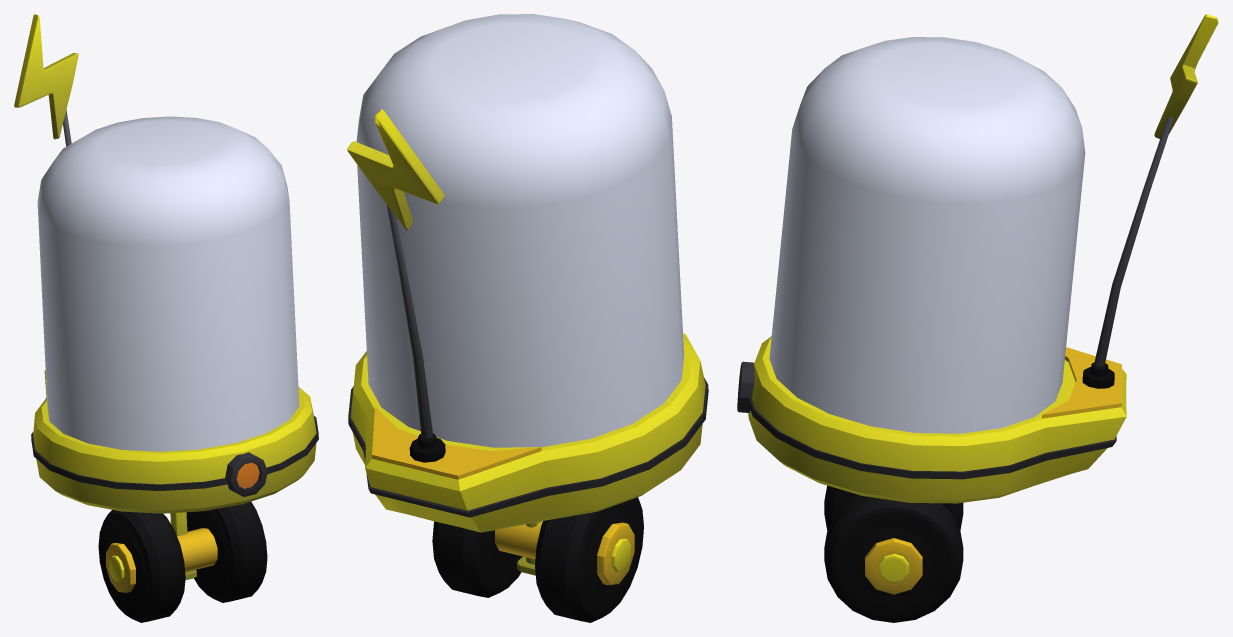
The model's file is Volto.fbx.
3 renders of one model, left to right at view 1: azimuth 30°, elevation 25°; view 2: azimuth 150°, elevation 25°; view 3: azimuth 270°, elevation 25°, orthographic. The views are drawn at different scales.
Visible parts, largest first — view 1: Vitre, Corps_Volto, Roues, BackAntenna, SupportRoue_02, Light.001, SupportRoues_01; view 2: Vitre, Corps_Volto, Roues, BackAntenna, SupportRoue_02, Antenne, SupportAntenne; view 3: Vitre, Corps_Volto, Roues, SupportRoue_02, Antenne, BackAntenna, Light.001, SupportAntenne.
Part boxes in pixels (x1,y1,x2,y2): Vitre: (37, 116, 299, 451); Corps_Volto: (31, 370, 318, 513); Roues: (98, 501, 267, 622); BackAntenna: (14, 14, 78, 139); SupportRoue_02: (106, 528, 217, 592); Light.001: (225, 452, 267, 496); SupportRoues_01: (170, 512, 196, 580); Vitre: (356, 14, 684, 447); Corps_Volto: (348, 333, 708, 532); Roues: (432, 497, 643, 622); BackAntenna: (347, 109, 444, 230); SupportRoue_02: (495, 521, 634, 585); Antenne: (386, 204, 432, 438); SupportAntenne: (409, 433, 445, 462); Vitre: (769, 37, 1085, 433); Corps_Volto: (748, 336, 1126, 503); Roues: (824, 485, 963, 622); SupportRoue_02: (865, 538, 922, 594); Antenne: (1094, 117, 1173, 366); BackAntenna: (1154, 14, 1218, 138); Light.001: (737, 361, 754, 412); SupportAntenne: (1082, 362, 1114, 388).
Bounding box in the file's own units: 67.01 × 126 × 96.04.
